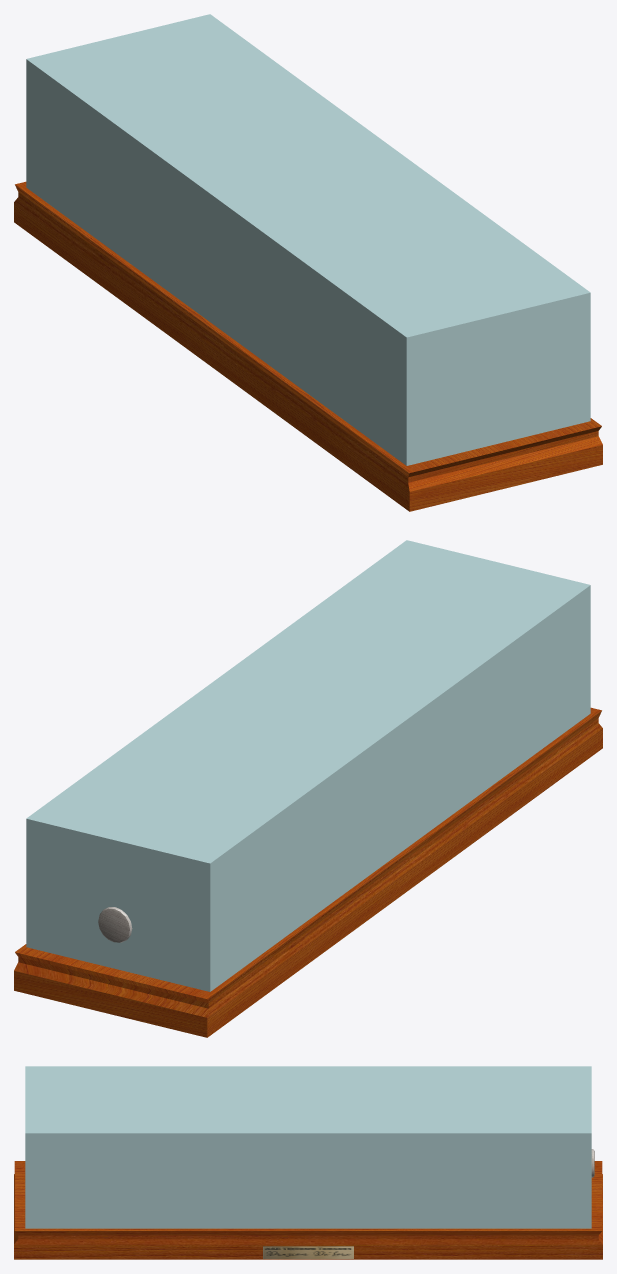
The model's file is bat_display.fbx.
3 renders of one model, top to bottom at view 1: azimuth 30°, elevation 25°; view 2: azimuth 150°, elevation 25°; view 3: azimuth 270°, elevation 25°, orthographic. The views are drawn at different scales.
Visible parts, largest first — view 1: Bat.001; view 2: Bat.001; view 3: Bat.001.
Part boxes in pixels (x1=…): Bat.001: x1=14, y1=14, x2=602, y2=511; Bat.001: x1=14, y1=540, x2=602, y2=1037; Bat.001: x1=14, y1=1066, x2=602, y2=1259.
Bounding box in the file's own units: 0.2016 × 0.1657 × 0.7089.
